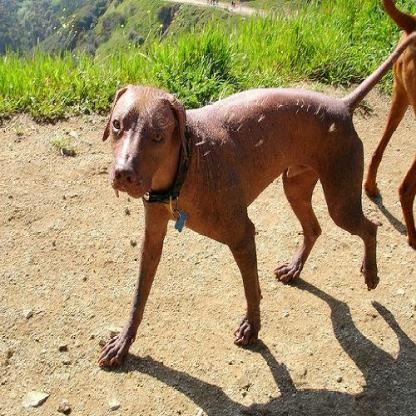Mexican_hairless: (96, 28, 414, 369)
